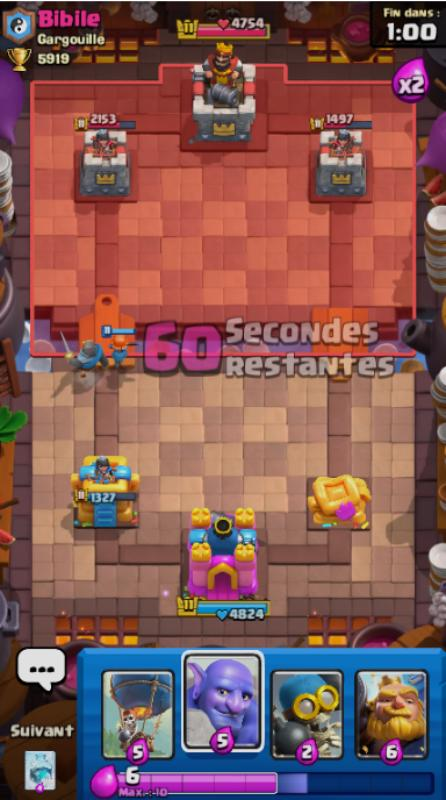chevalier: (56, 324, 112, 384)
valkyrie: (100, 312, 144, 382)
